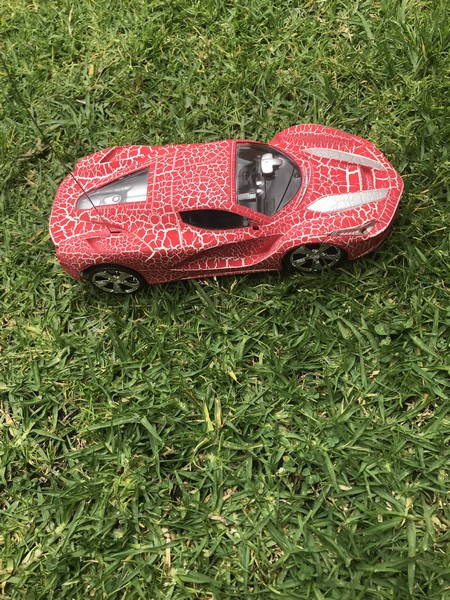RC: (46, 119, 407, 297)
